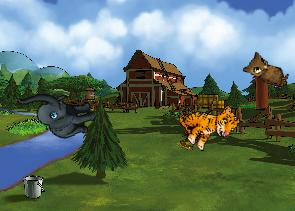elephant: (16, 75, 100, 150)
owl: (241, 49, 293, 88)
tiger: (173, 89, 243, 157)
